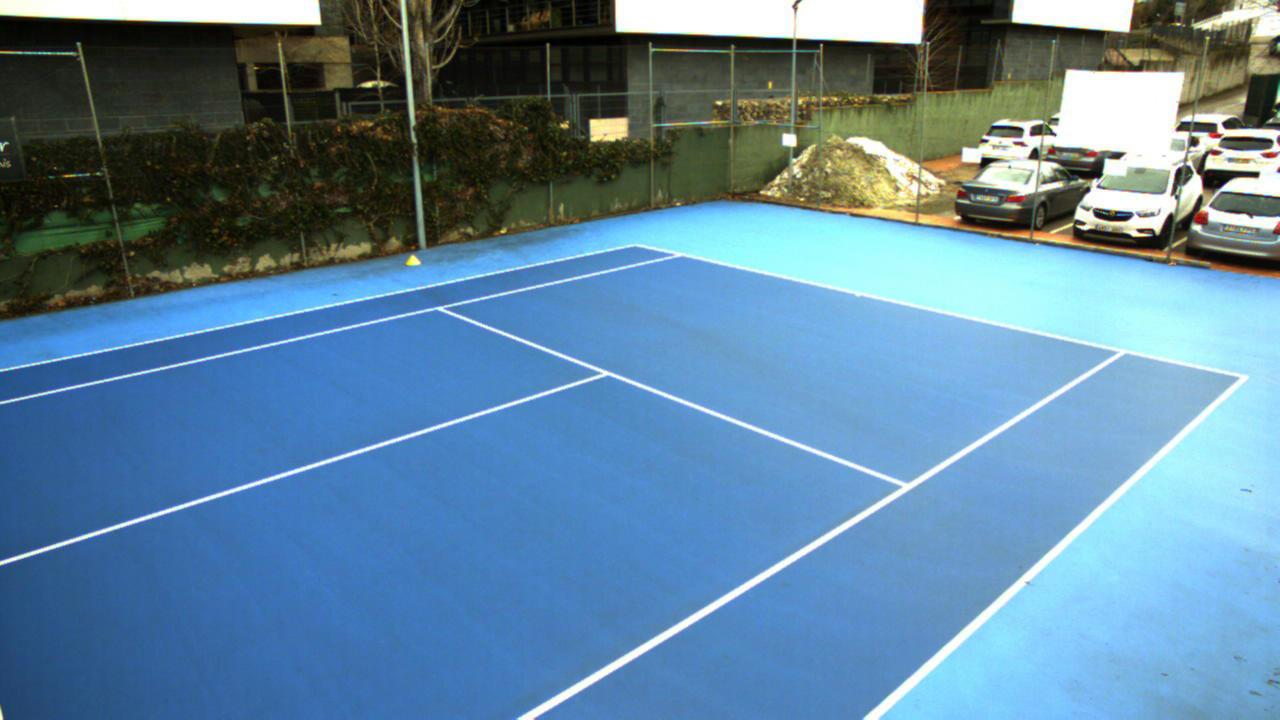cancha_tenis: (0, 252, 1126, 720)
point_f1: (664, 246, 690, 266)
point_f2: (1107, 340, 1132, 366)
point_fc1: (848, 286, 868, 304)
point_i1: (430, 299, 454, 319)
point_i2: (887, 475, 920, 501)
point_ic1: (589, 360, 618, 385)
